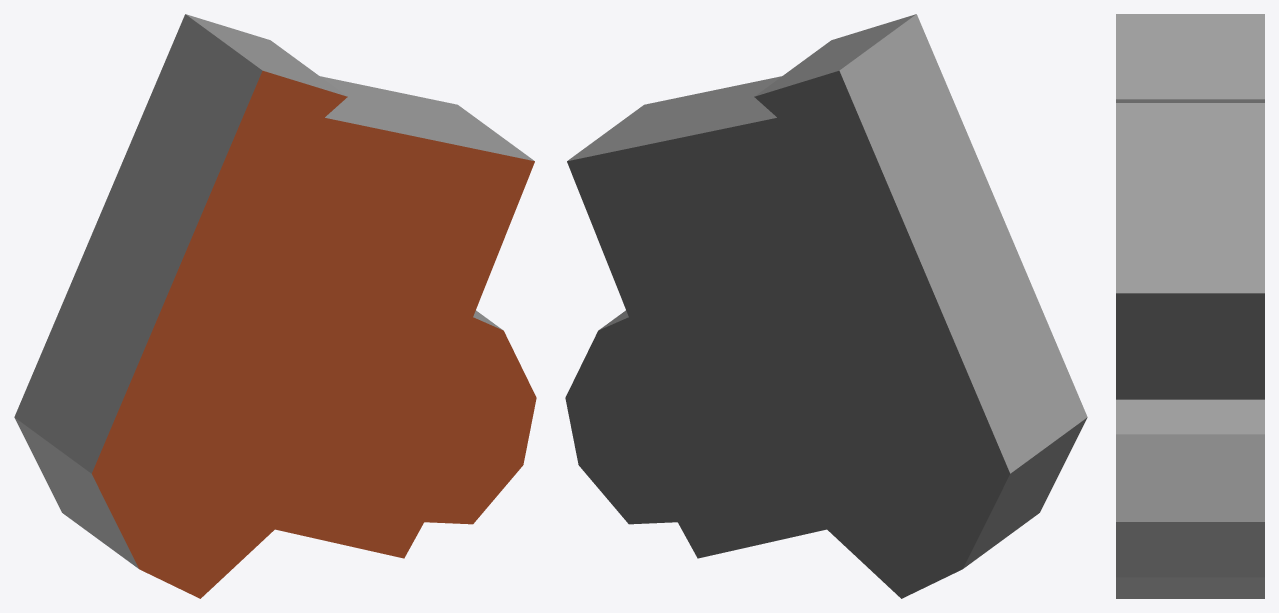
The model's file is construction_4647_assumed_A_Casa_h6m.obj.
The picture shows the model from 3 angles, left to right: view 1: azimuth 30°, elevation 25°; view 2: azimuth 150°, elevation 25°; view 3: azimuth 270°, elevation 25°; orthographic projection. The views are drawn at different scales.
Parts seen in each view (by area): view 1: construction_4647_assumed_A_Casa; view 2: construction_4647_assumed_A_Casa; view 3: construction_4647_assumed_A_Casa.
Part boxes in pixels (x1,y1,x2,y2): construction_4647_assumed_A_Casa: (14,14,536,598); construction_4647_assumed_A_Casa: (565,14,1087,598); construction_4647_assumed_A_Casa: (1116,14,1264,598).
Size of the model in its own units: 19.93 by 22.36 by 6.
